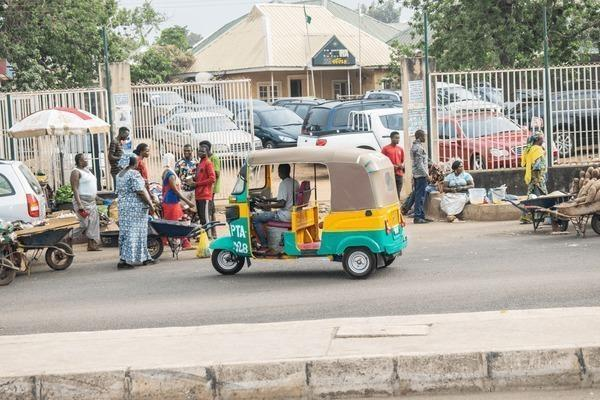keke: (206, 146, 406, 290)
